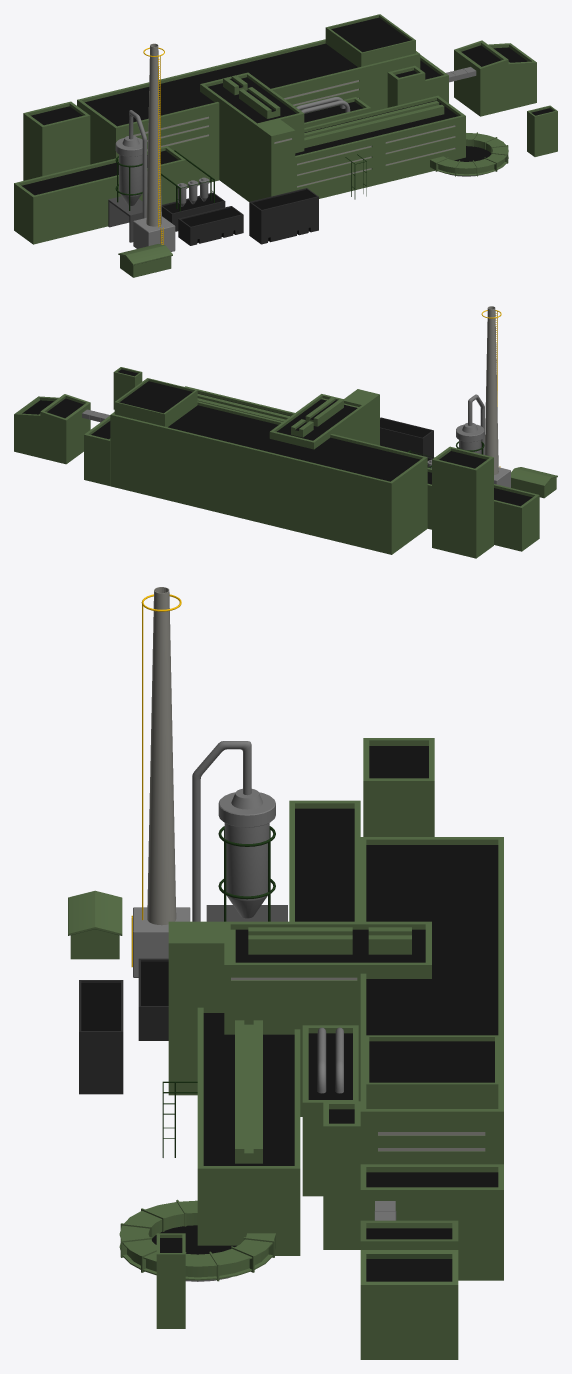
3 renders of one model, top to bottom at view 1: azimuth 30°, elevation 25°; view 2: azimuth 150°, elevation 25°; view 3: azimuth 270°, elevation 25°, orthographic. The views are drawn at different scales.
Parts seen in each view (by area): view 1: Box1058, Box1063, Object029, Box1064, Box1060, Box1061, Box1071, Box1065, Cylinder409, Object022, Cylinder494, Box1070 (+24 smaller); view 2: Box1058, Object029, Box1061, Box1064, Box1060, Box1071, Cylinder409, Box1059, Box1070, Box1065, Box1068, Object055 (+10 smaller); view 3: Object029, Box1064, Box1058, Box1063, Box1070, Object051, Box1059, Cylinder409, Object043, Cylinder494, Box1062, Box1061 (+21 smaller).
Part boxes in pixels (left/top/right/bottom): Box1058: left=77, top=14, right=420, bottom=187; Box1063: left=295, top=95, right=465, bottom=198; Object029: left=85, top=17, right=409, bottom=126; Box1064: left=200, top=72, right=304, bottom=201; Box1060: left=14, top=146, right=186, bottom=244; Box1061: left=23, top=101, right=90, bottom=180; Box1071: left=454, top=40, right=508, bottom=116; Box1065: left=249, top=188, right=318, bottom=244; Cylinder409: left=146, top=43, right=161, bottom=226; Object022: left=304, top=101, right=444, bottom=148; Cylinder494: left=430, top=132, right=508, bottom=176; Box1070: left=488, top=43, right=536, bottom=109; Box1058: left=110, top=378, right=427, bottom=554; Object029: left=119, top=381, right=420, bottom=481; Box1061: left=432, top=446, right=493, bottom=558; Box1064: left=269, top=389, right=379, bottom=449; Box1060: left=427, top=468, right=539, bottom=551; Box1071: left=40, top=394, right=90, bottom=464; Cylinder409: left=485, top=306, right=498, bottom=474; Box1059: left=84, top=415, right=110, bottom=485; Box1070: left=14, top=396, right=58, bottom=457; Box1065: left=380, top=417, right=433, bottom=458; Box1068: left=511, top=467, right=557, bottom=498; Object055: left=277, top=399, right=357, bottom=440; Object029: left=366, top=845, right=498, bottom=1082; Box1064: left=168, top=921, right=431, bottom=1116; Box1058: left=360, top=837, right=503, bottom=1164; Box1063: left=197, top=1007, right=300, bottom=1255; Box1070: left=360, top=1250, right=458, bottom=1359; Object051: left=203, top=1013, right=294, bottom=1165; Box1059: left=360, top=1164, right=503, bottom=1280; Cylinder409: left=147, top=587, right=176, bottom=925; Object043: left=295, top=808, right=354, bottom=921; Cylinder494: left=119, top=1199, right=275, bottom=1281; Box1062: left=323, top=1101, right=360, bottom=1249; Box1061: left=363, top=738, right=434, bottom=836.
Size of the model in its own units: 1019 by 379 by 398.
